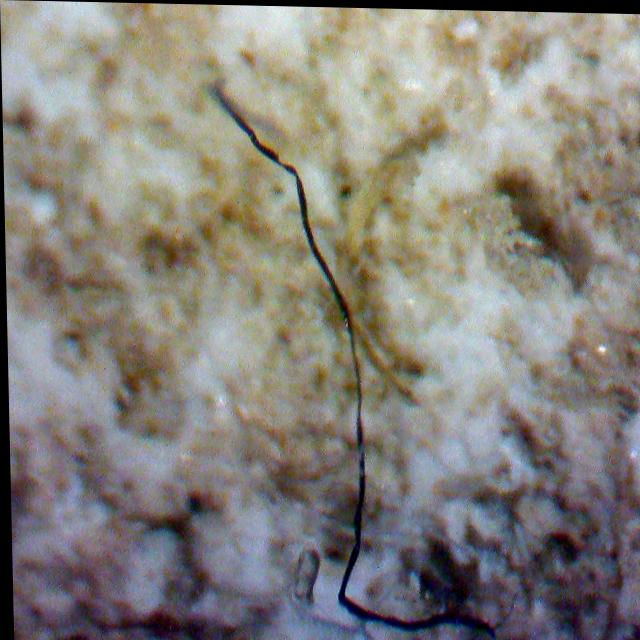microplastic: (212, 86, 494, 635)
